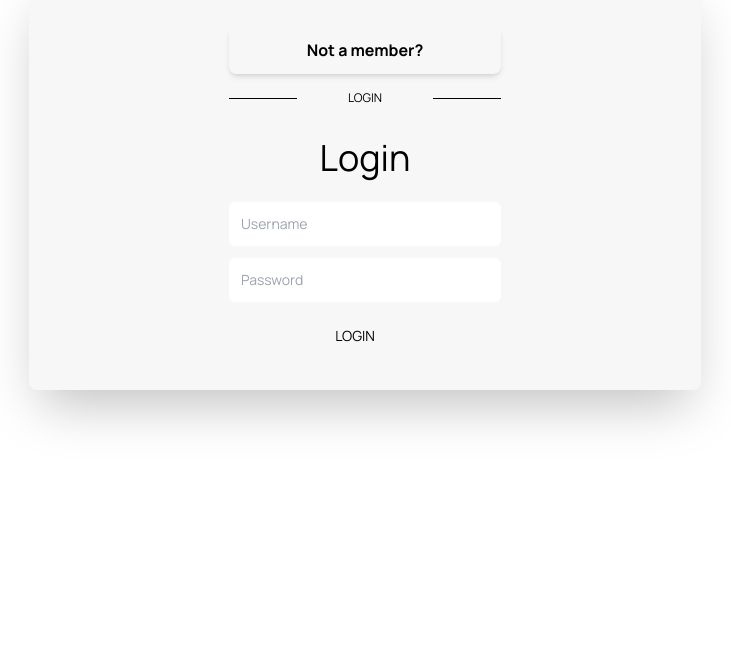
MemberPage page component › when user clicks 'Not a Member?' the Register component appears, then switch back to LoginForm compononet by clicking 'Back to Login'
Click the link with test id "register-login-button": (365, 50) [229,26,501,74]
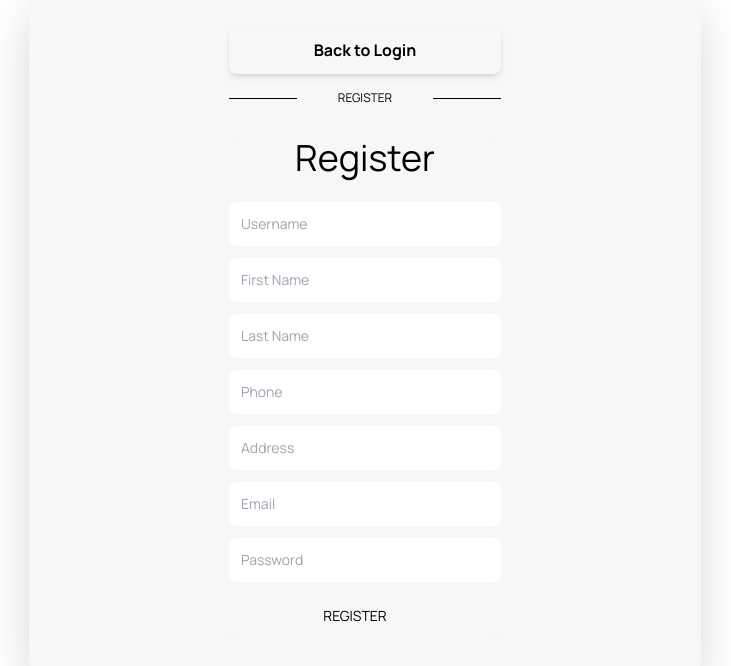
Expected: the heading "Back to Login" is shown, [314,39,416,61]
Click the link with test id "register-login-button": (365, 50) [229,26,501,74]
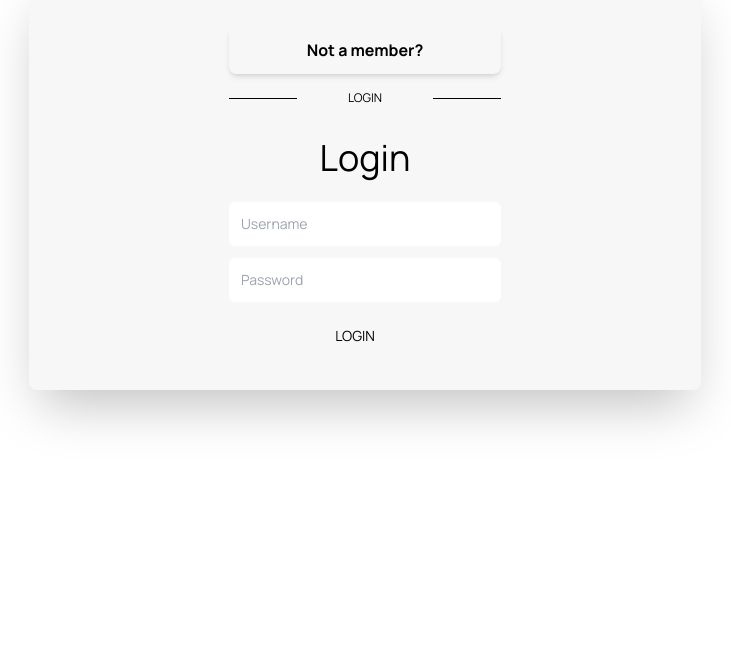
Expected: the field with placeholder "Username" is shown, [229,202,501,246]
Expected: the heading "Not a member?" is shown, [307,39,423,61]
Expected: the password field with placeholder "Password" is shown, [229,258,501,302]
